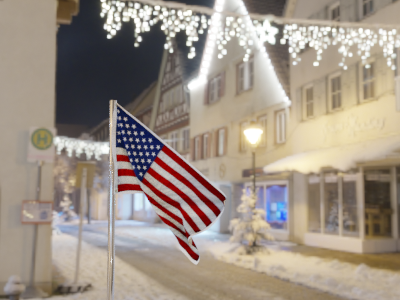America flag: (112, 102, 228, 265)
